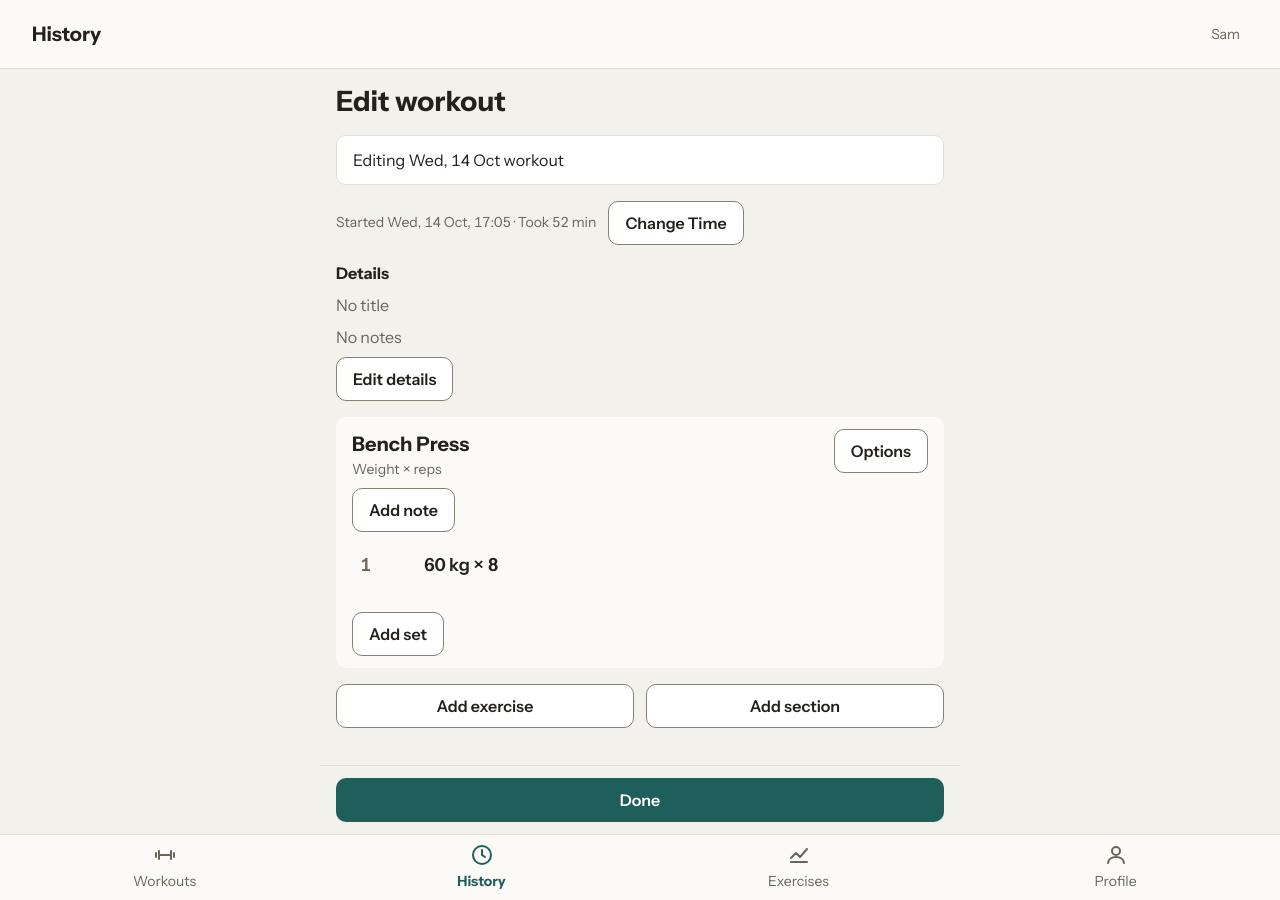
18.0 AC41 — edit failures › 404: the vanished view
Expected: the heading "Edit workout" is shown, 336,84 -> 506,118
Click the button "Change Time" at (676, 223), box 608,201 -> 744,245
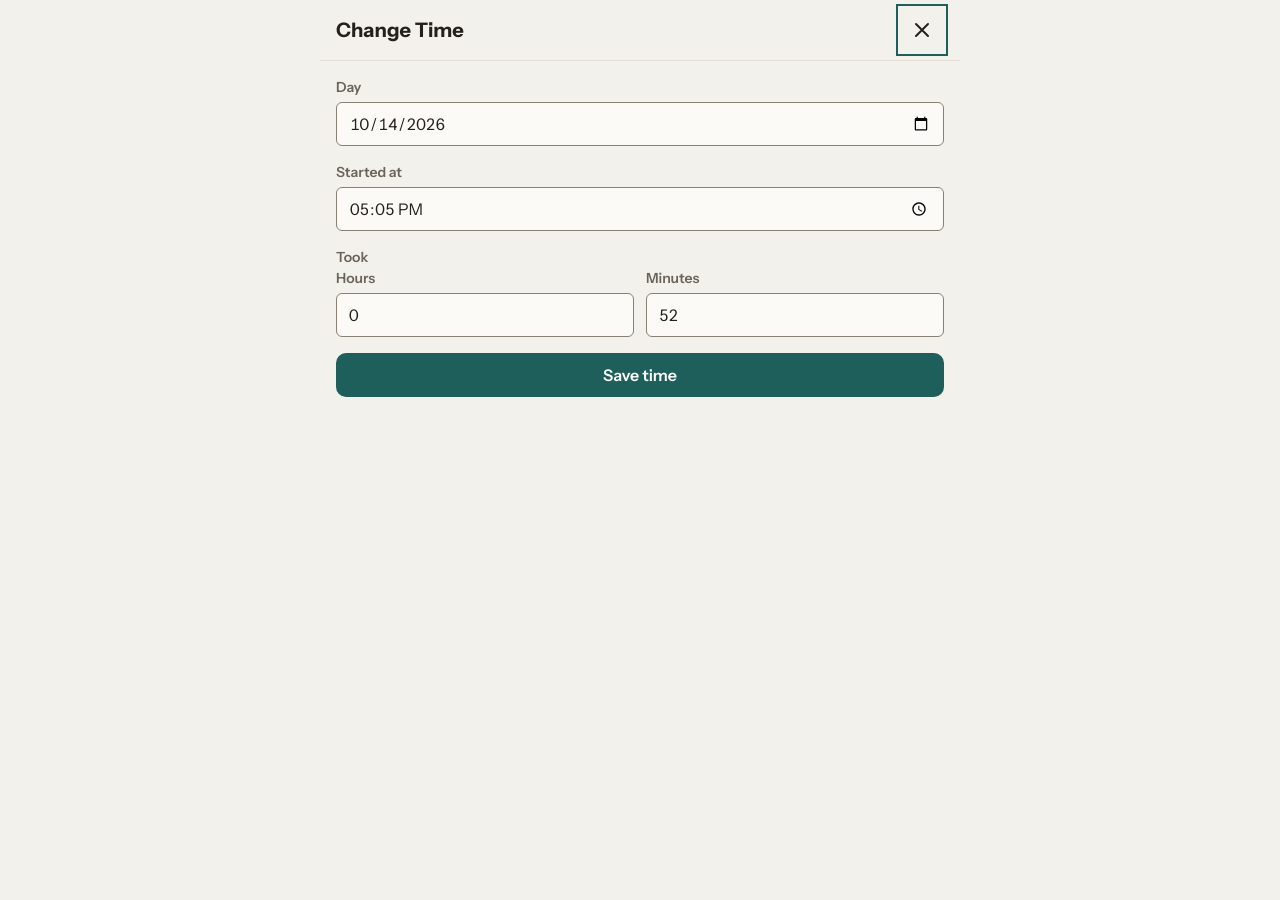
Type "2026-10-16" into the date field labelled "Day" at (640, 124), box 336,102 -> 944,146
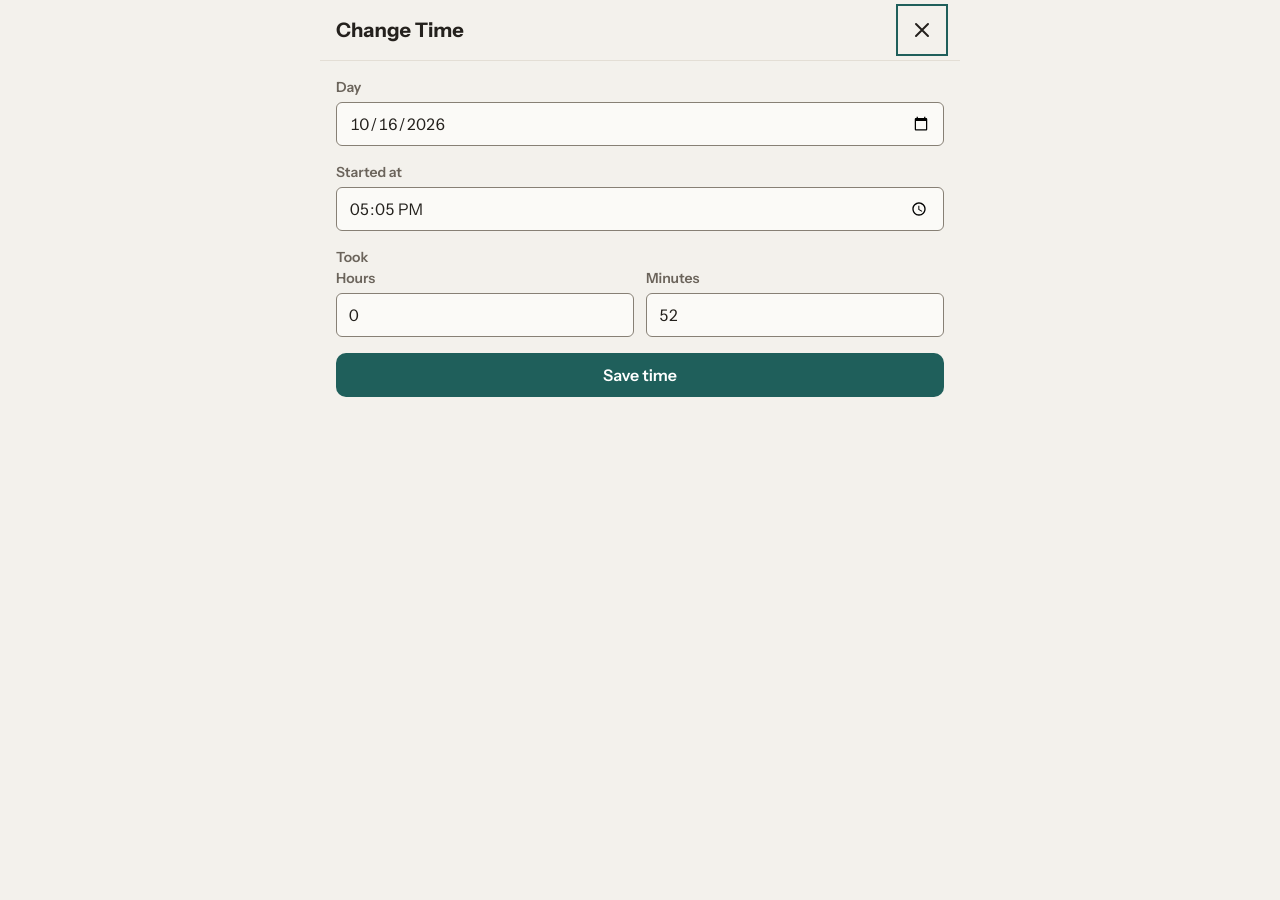
Click the button "Save time" at (640, 375), box 336,353 -> 944,397
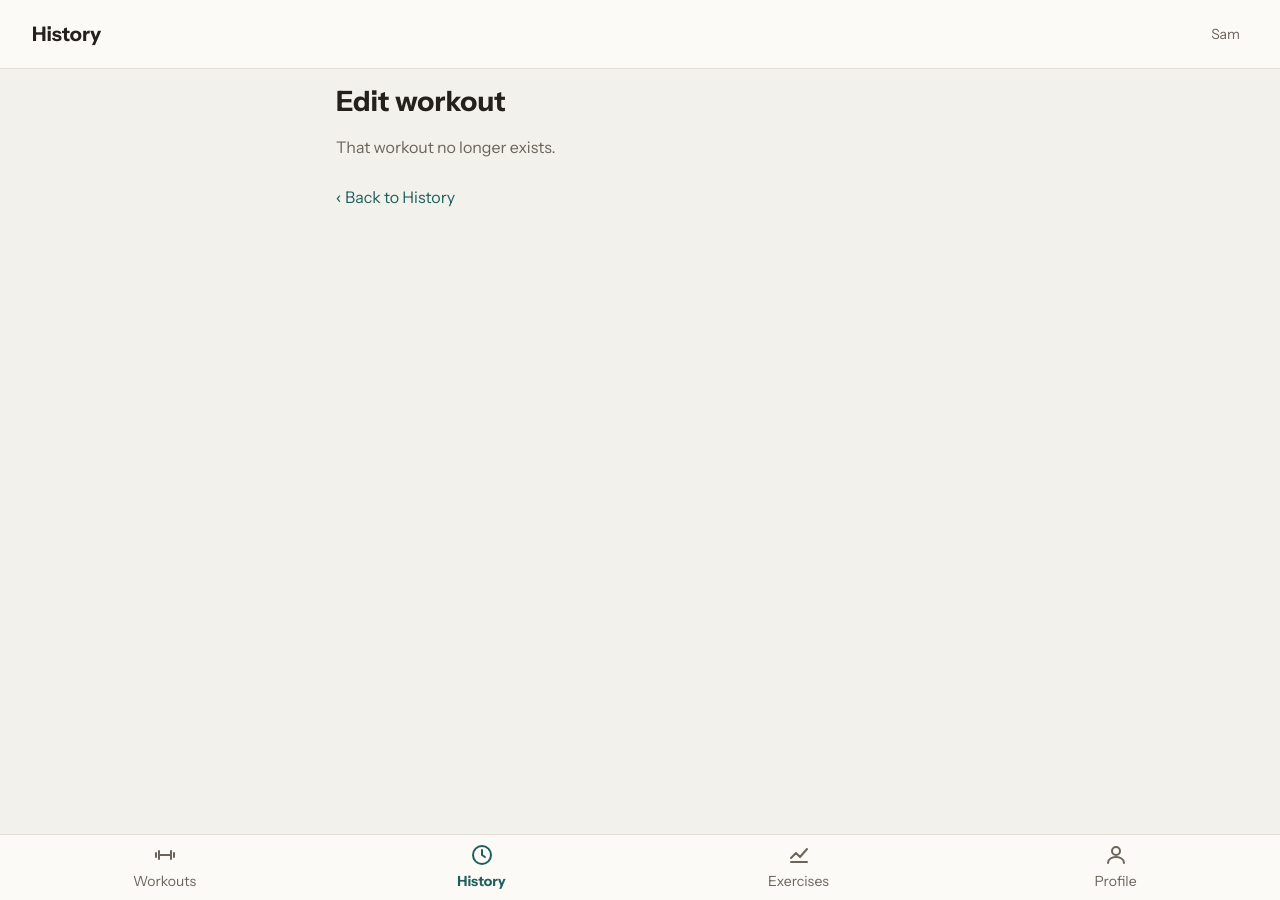
Now the text "That workout no longer exists." is shown, box 336,137 -> 556,157
